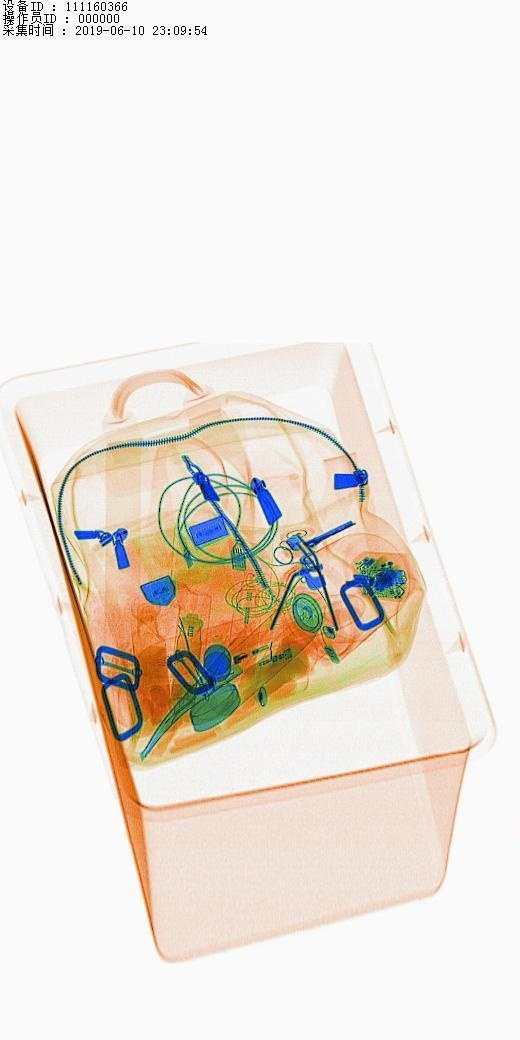NonmetallicFire: (198, 614, 355, 691)
